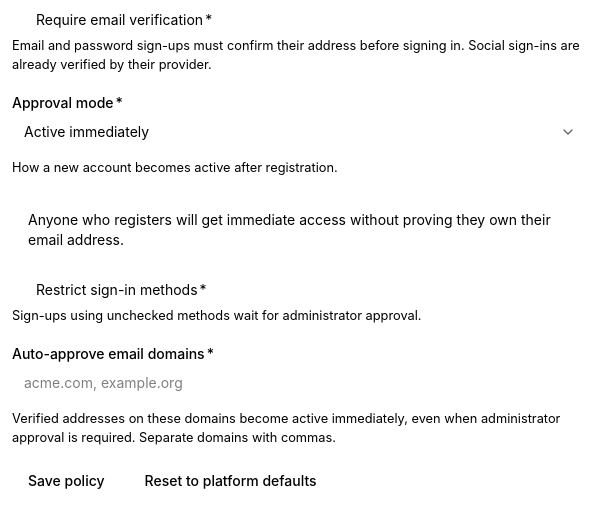
Scenario: AuthPolicyForm › resets to inheritance via DELETE and returns to the summary view
The width and height of the screenshot is (597, 516).
Click the button "Reset to platform defaults" at (231,481), box [128,463,333,499]
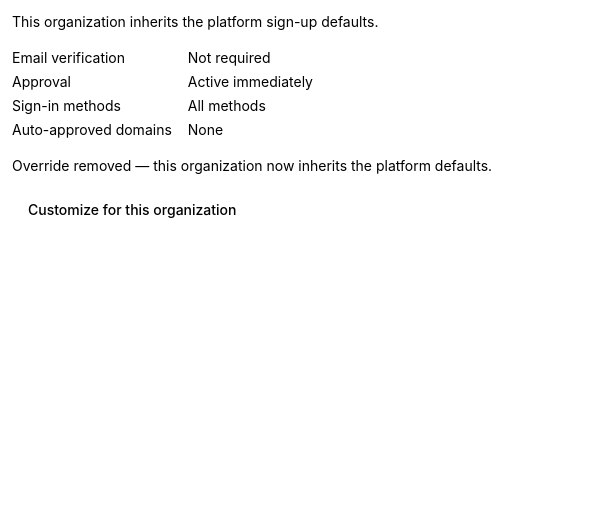
expect the text "Active immediately" is shown: met, box [188,73,313,90]
expect the message shows "inherits": met, box [12,157,492,174]
expect the button "Save policy" is gone: met
